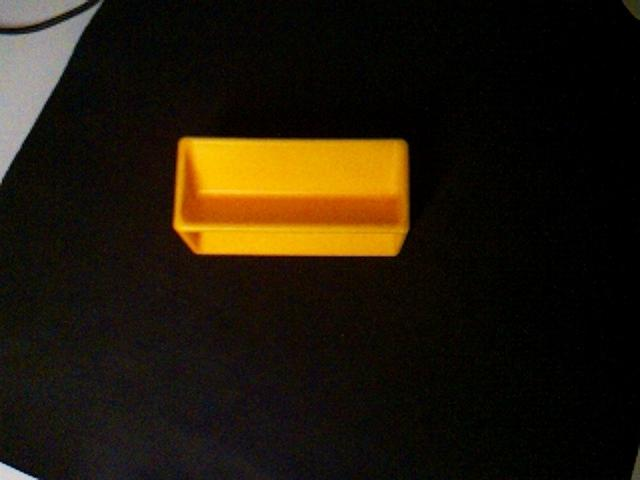yellow: (171, 134, 412, 259)
